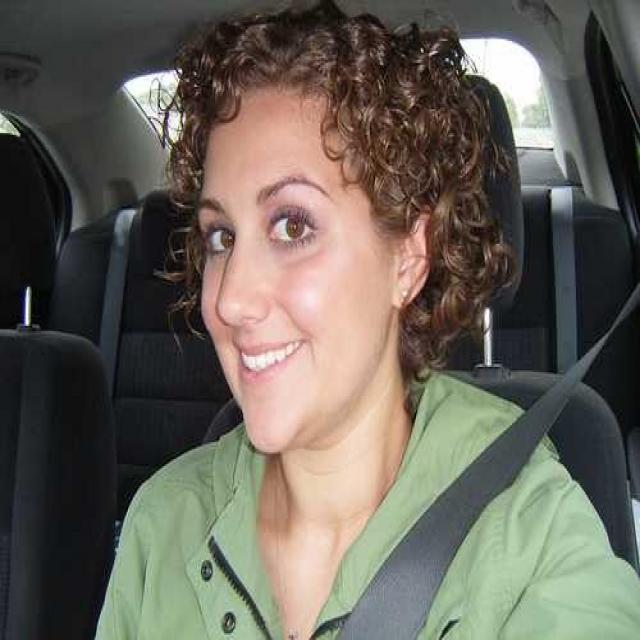seatbelt: (332, 272, 628, 614), (87, 203, 138, 345)
